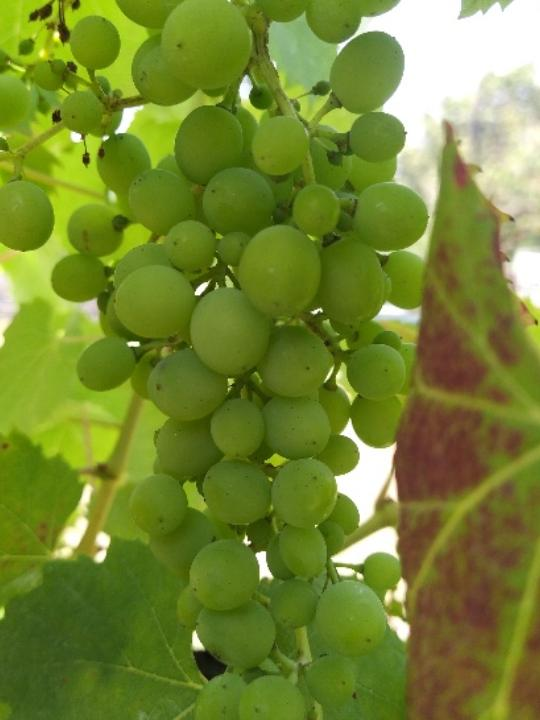grape: (0, 0, 427, 720)
